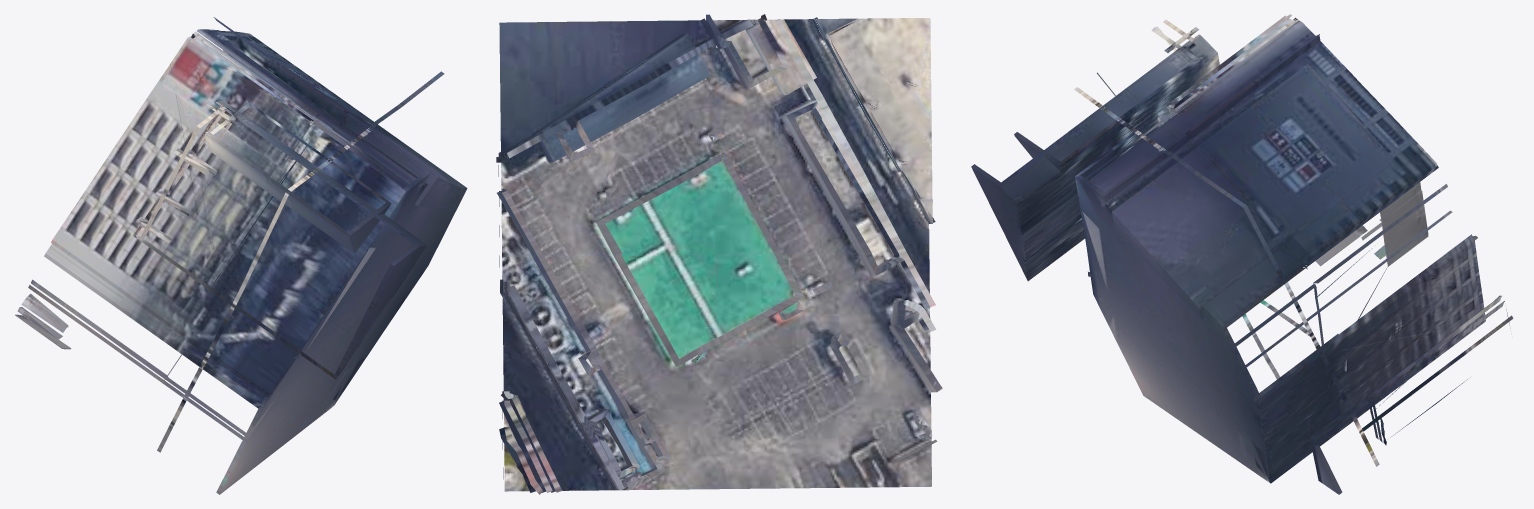
3 views of the same model, side by side, from view 1: azimuth 30°, elevation 25°; view 2: azimuth 150°, elevation 25°; view 3: azimuth 270°, elevation 25° (orthographic). The views are drawn at different scales.
Bounding box in the file's own units: 97.58 × 94.75 × 116.
3 materials, 3 textured.
